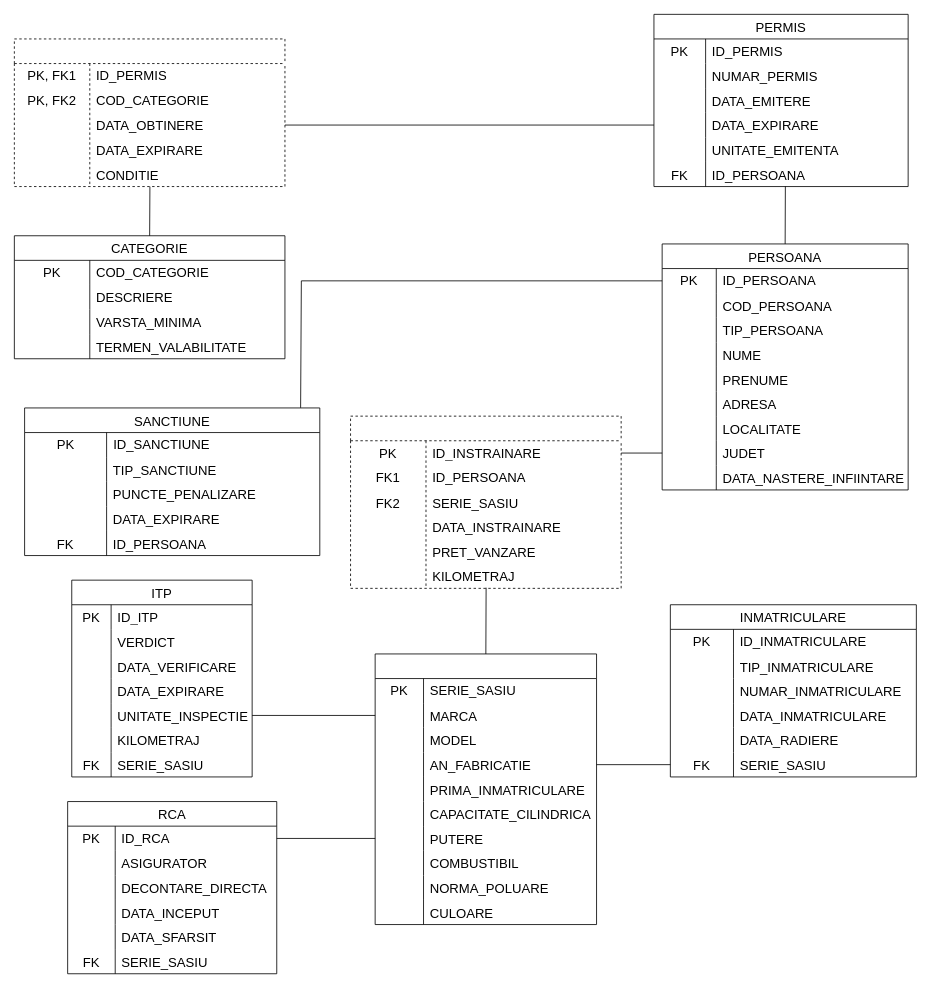
Some shapes in this 931 by 988 pixel diagram are drawn without their labels. Here are the shapes that lost their labels. From the top down, the box of each, then its label:
(14, 38, 285, 187): DETALII_PERMIS
(350, 415, 621, 588): ISTORIC_INSTRAINARE
(374, 653, 597, 925): VEHICUL
